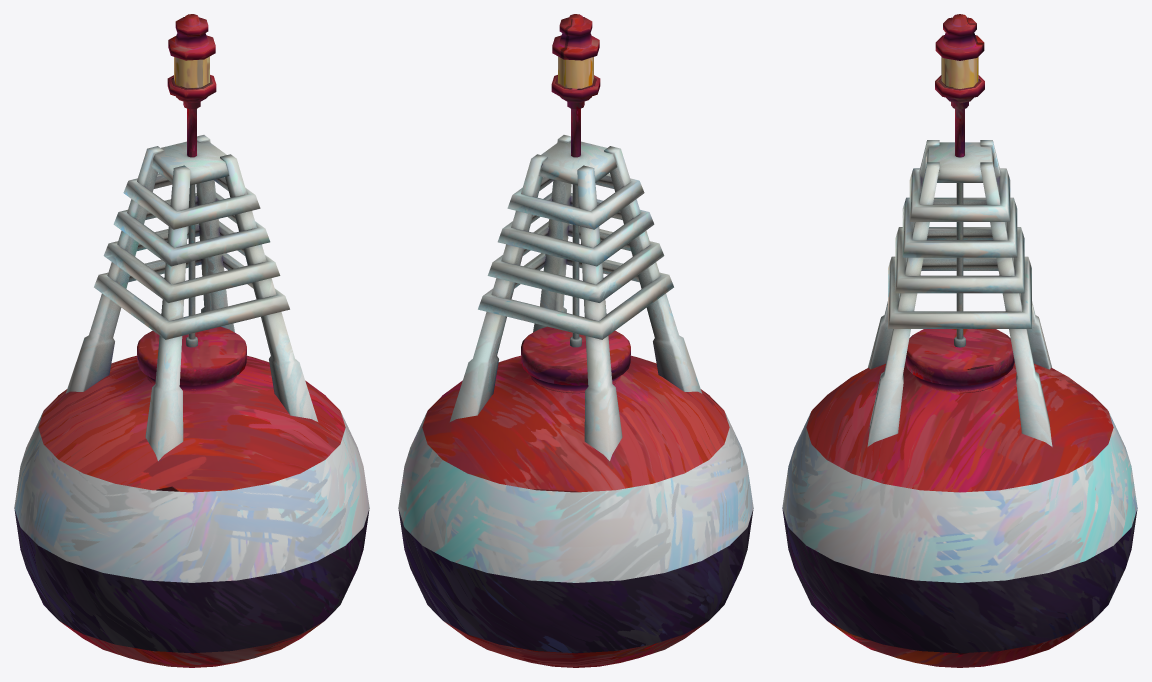
The model's file is decor_buoy.fbx.
The picture shows the model from 3 angles, left to right: view 1: azimuth 30°, elevation 25°; view 2: azimuth 150°, elevation 25°; view 3: azimuth 270°, elevation 25°; orthographic projection.
Visible parts, largest first — view 1: decor_buoy_white, decor_buoy_red, decor_buoy_black, decor_buoy_light; view 2: decor_buoy_white, decor_buoy_red, decor_buoy_black, decor_buoy_light; view 3: decor_buoy_white, decor_buoy_red, decor_buoy_black, decor_buoy_light.
Part boxes in pixels (x1=…): decor_buoy_white: x1=14, y1=135, x2=369, y2=582; decor_buoy_red: x1=38, y1=14, x2=345, y2=667; decor_buoy_black: x1=14, y1=508, x2=369, y2=653; decor_buoy_light: x1=174, y1=56, x2=209, y2=88; decor_buoy_white: x1=398, y1=135, x2=753, y2=582; decor_buoy_red: x1=422, y1=14, x2=729, y2=667; decor_buoy_black: x1=398, y1=508, x2=753, y2=653; decor_buoy_light: x1=558, y1=56, x2=593, y2=88; decor_buoy_white: x1=782, y1=140, x2=1137, y2=582; decor_buoy_red: x1=806, y1=14, x2=1113, y2=667; decor_buoy_black: x1=782, y1=508, x2=1137, y2=653; decor_buoy_light: x1=941, y1=57, x2=978, y2=88.
Bounding box in the file's own units: 2 × 3.91 × 2.
